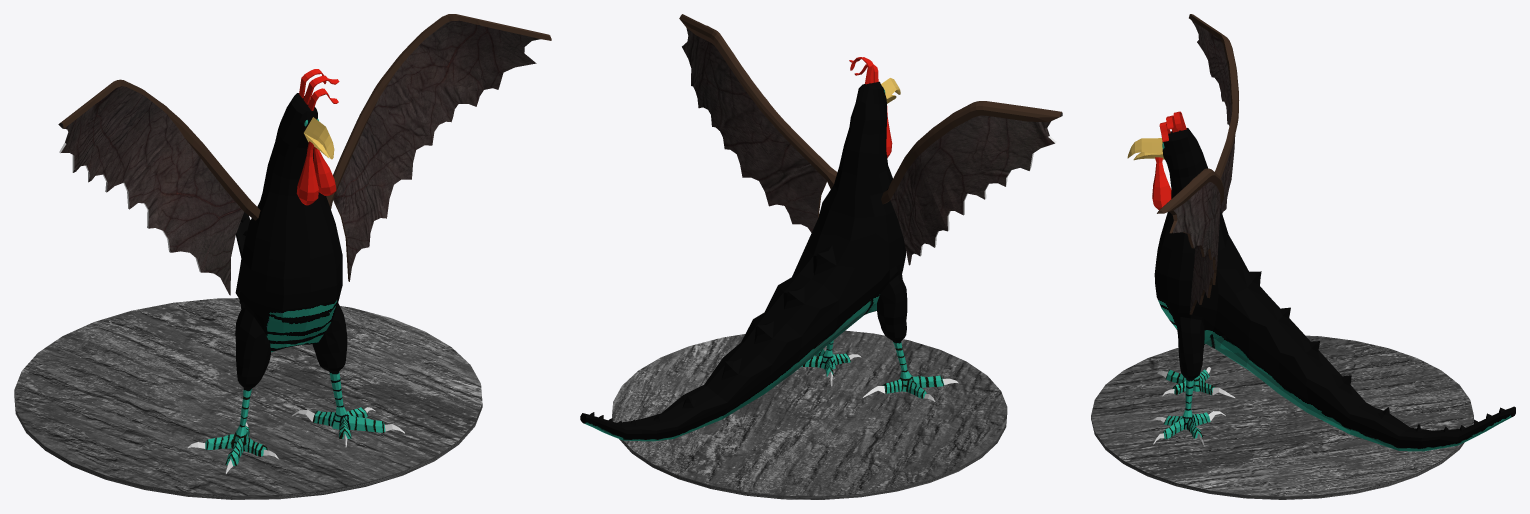
Rendered from polloModelo.glb.
3 views of the same model, side by side, from view 1: azimuth 30°, elevation 25°; view 2: azimuth 150°, elevation 25°; view 3: azimuth 270°, elevation 25° (orthographic). The views are drawn at different scales.
Parts seen in each view (by area): view 1: Cube; view 2: Cube; view 3: Cube.
Boxes of the visible parts, x1,y1,x2,y2 form: Cube: (14,14,551,499); Cube: (580,14,1062,499); Cube: (1091,14,1515,499).
Bounding box in the file's own units: 3.76 × 2.96 × 3.61.
8 materials, 3 textured.
